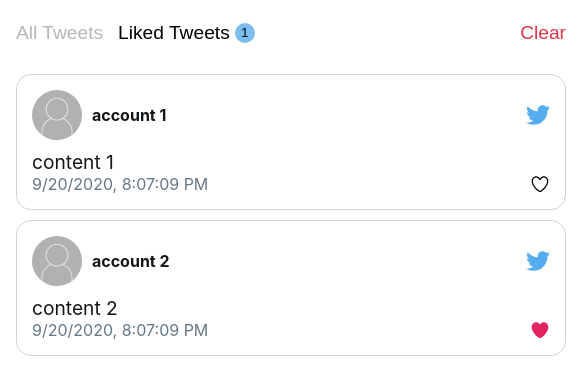
Test: App › should toggle between all and liked tweets
The width and height of the screenshot is (583, 373).
Click the button "Liked Tweets 1": (186, 33) [118,12,255,54]
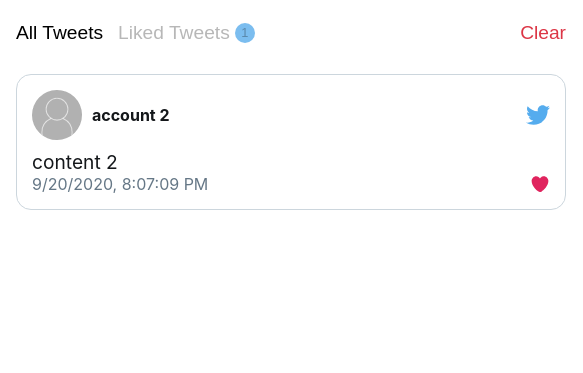
Expected: the picture with alt text "unlike tweet" is shown, [530,174,550,194]
Expected: the number of list items is 1, [16,74,566,210]
Click the button "All Tweets": (60, 33) [16,12,103,54]
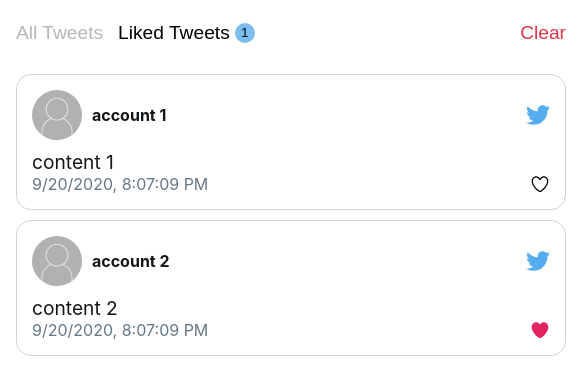
Expected: the number of list items is 2, [16,74,566,210]; [16,220,566,356]
